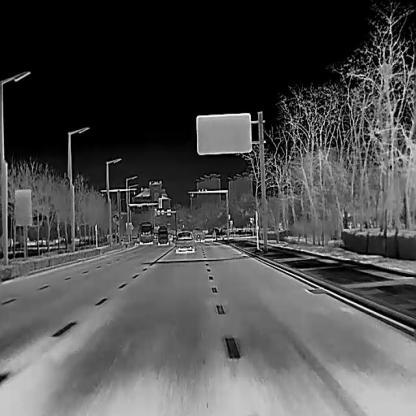car: (174, 230, 195, 251), (139, 220, 154, 244), (157, 225, 169, 245)
